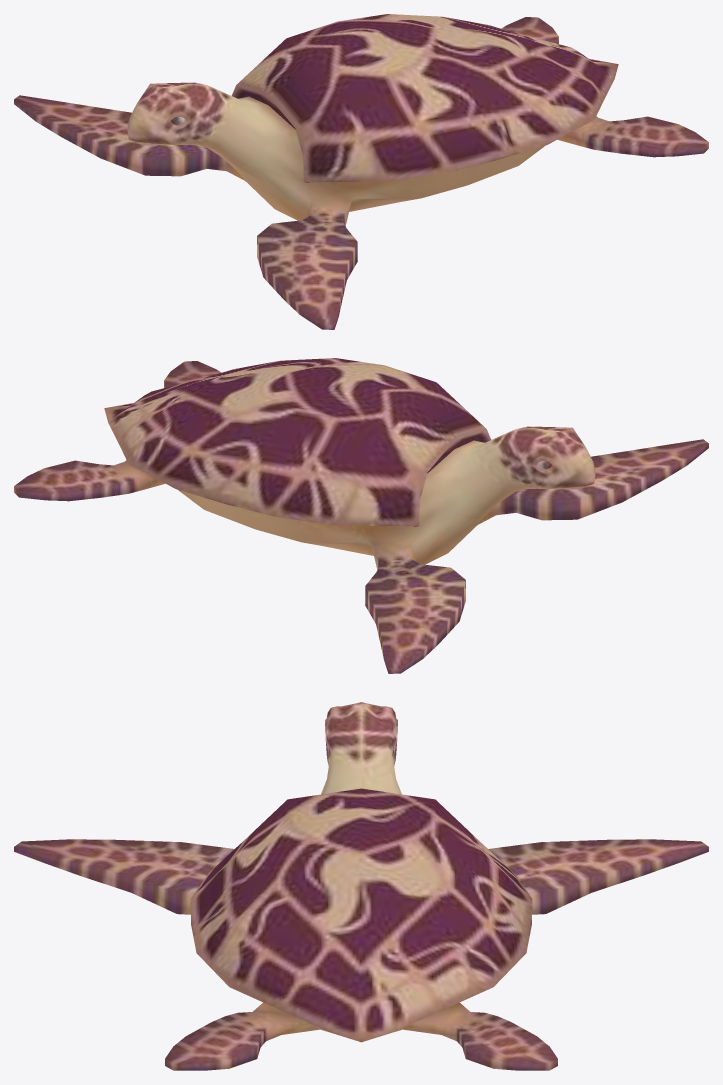
File: stylised_hawksbill_turtle_game.glb
3 views of the same model, one above another, from view 1: azimuth 30°, elevation 25°; view 2: azimuth 150°, elevation 25°; view 3: azimuth 270°, elevation 25° (orthographic). The views are drawn at different scales.
Parts seen in each view (by area): view 1: Turtle_LP; view 2: Turtle_LP; view 3: Turtle_LP.
Part boxes in pixels (box(x1,y1,x2,y2)): Turtle_LP: box(14, 14, 708, 329); Turtle_LP: box(14, 358, 708, 673); Turtle_LP: box(14, 702, 708, 1070).
Bounding box in the file's own units: 5.13 × 1.56 × 5.65.
Materials: 1 (1 with a texture image).
